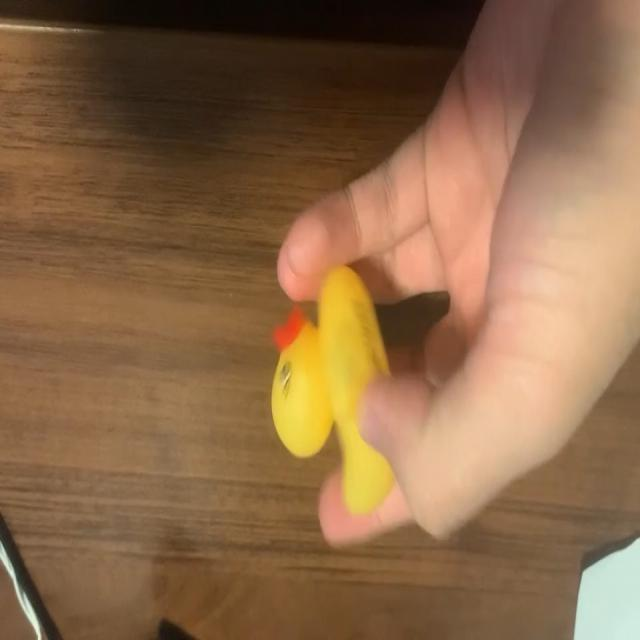rubber-duck: (270, 265, 392, 512)
